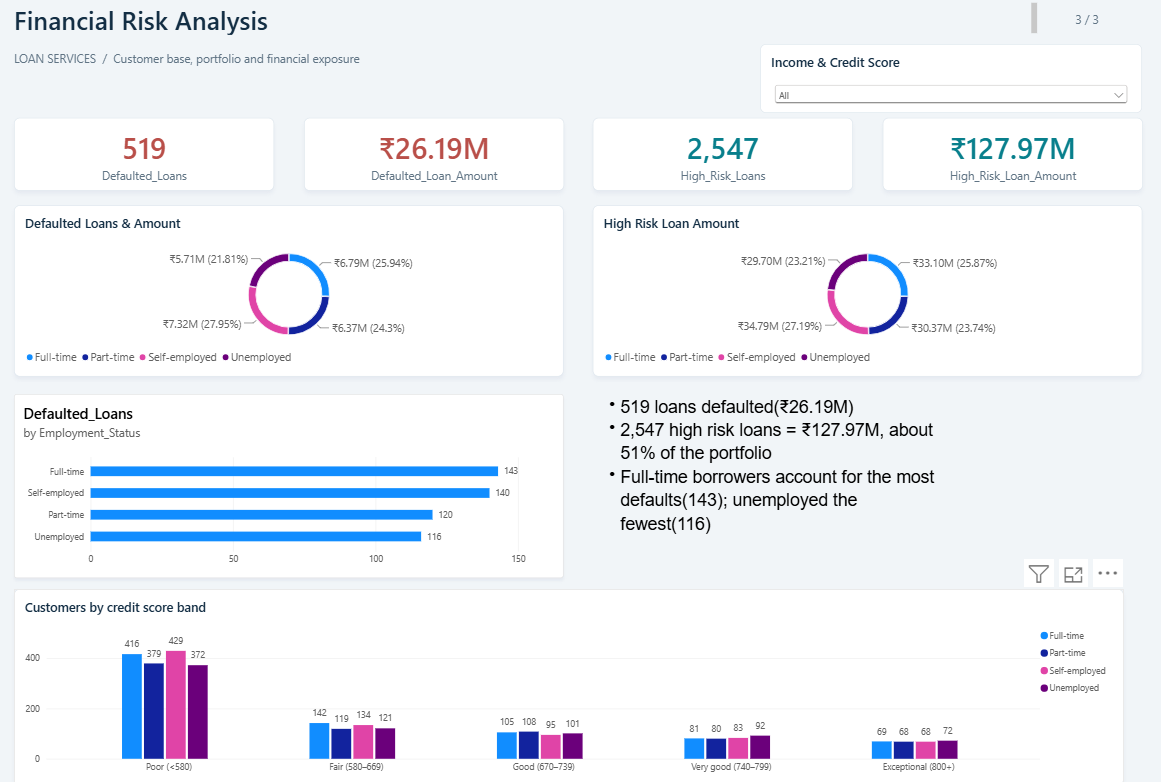

The dashboard page shown, as its layout file describes it:
{"tool":"powerbi","page":{"name":"Financial Risk Analysis","canvas":[1600,1120],"ordinal":2},"visuals":[{"type":"textbox","box":[28,18,1400,44],"z":15},{"type":"textbox","box":[1480,30,92,26],"z":15},{"type":"slicer","title":"Income & Credit Score","fields":{"Values":["Customer_Details.Income Buckets","Customer_Details.Credit Score Buckets"]},"box":[1048,76,522,94],"z":15},{"type":"textbox","box":[28,83,960,28],"z":15},{"type":"card","fields":{"Values":["Analysis.Defaulted_Loans"]},"box":[28,176,356,100],"z":15},{"type":"card","fields":{"Values":["Analysis.Defaulted_Loan_Amount"]},"box":[424,176,356,100],"z":15},{"type":"card","fields":{"Values":["Analysis.High_Risk_Loans"]},"box":[820,176,356,100],"z":15},{"type":"card","fields":{"Values":["Analysis.High_Risk_Loan_Amount"]},"box":[1216,176,356,100],"z":15},{"type":"donutChart","title":"Defaulted Loans & Amount","fields":{"Category":["Customer_Details.Employment"],"Y":["Analysis.Defaulted_Loan_Amount"]},"box":[28,296,752,234],"z":15},{"type":"donutChart","title":"High Risk Loan Amount","fields":{"Category":["Customer_Details.Employment"],"Y":["Analysis.High_Risk_Loan_Amount"]},"box":[820,296,752,234],"z":15},{"type":"clusteredColumnChart","title":"Customers by credit score band","fields":{"Category":["Customer_Details.Credit Score Buckets"],"Series":["Customer_Details.Employment_Status"],"Y":["CountNonNull(Customer_Details.Customer_ID)"]},"box":[27.8,820.4,1518.5,268.5],"z":15},{"type":"textbox","box":[28,1088,1540,24],"z":15},{"type":"clusteredBarChart","fields":{"Category":["Customer_Details.Employment_Status"],"Y":["Analysis.Defaulted_Loans"]},"box":[27.8,553.7,751.9,251.9],"z":16},{"type":"textbox","box":[820.4,553.7,488.9,251.9],"z":17}]}

Visuals, with their boxes on the page's 1600x1120 design canvas (x1, y1, x2, y2). These are canvas units, not pixel positions in the 1161x782 screenshot, which may show the page scaled, cropped or inside an application window:
textbox: bbox=(28, 18, 1428, 62)
textbox: bbox=(1480, 30, 1572, 56)
"Income & Credit Score" slicer: bbox=(1048, 76, 1570, 170)
textbox: bbox=(28, 83, 988, 111)
card - Analysis.Defaulted_Loans: bbox=(28, 176, 384, 276)
card - Analysis.Defaulted_Loan_Amount: bbox=(424, 176, 780, 276)
card - Analysis.High_Risk_Loans: bbox=(820, 176, 1176, 276)
card - Analysis.High_Risk_Loan_Amount: bbox=(1216, 176, 1572, 276)
"Defaulted Loans & Amount" donutChart: bbox=(28, 296, 780, 530)
"High Risk Loan Amount" donutChart: bbox=(820, 296, 1572, 530)
"Customers by credit score band" clusteredColumnChart: bbox=(28, 820, 1546, 1089)
textbox: bbox=(28, 1088, 1568, 1112)
clusteredBarChart - Customer_Details.Employment_Status x Analysis.Defaulted_Loans: bbox=(28, 554, 780, 806)
textbox: bbox=(820, 554, 1309, 806)
